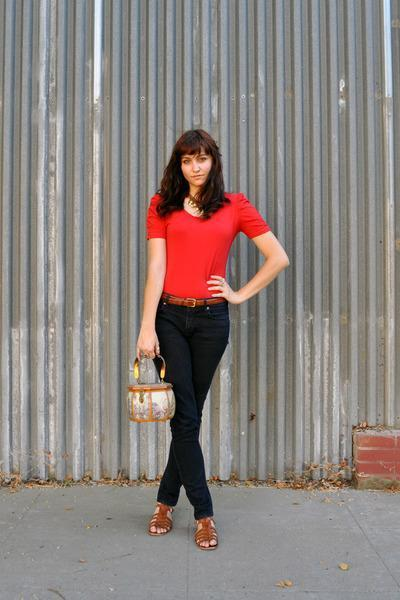bag: (128, 356, 174, 431)
pants: (155, 300, 229, 519)
shirt: (146, 192, 269, 299)
shoe: (150, 492, 217, 550)
